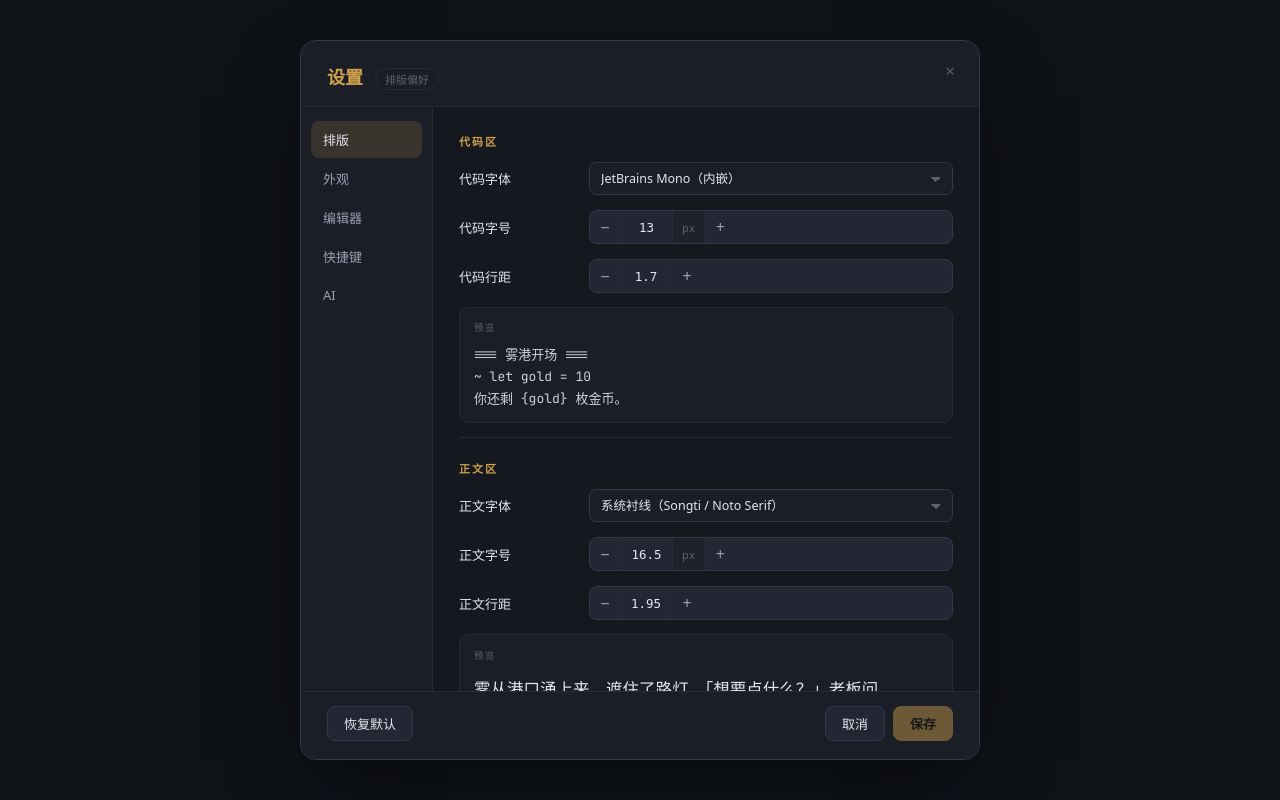
SettingsDialog › 自定义字体：选「自定义...」展开输入框
Select "自定义..." in the dropdown named "代码字体" at (771, 178), box [589,162,953,195]
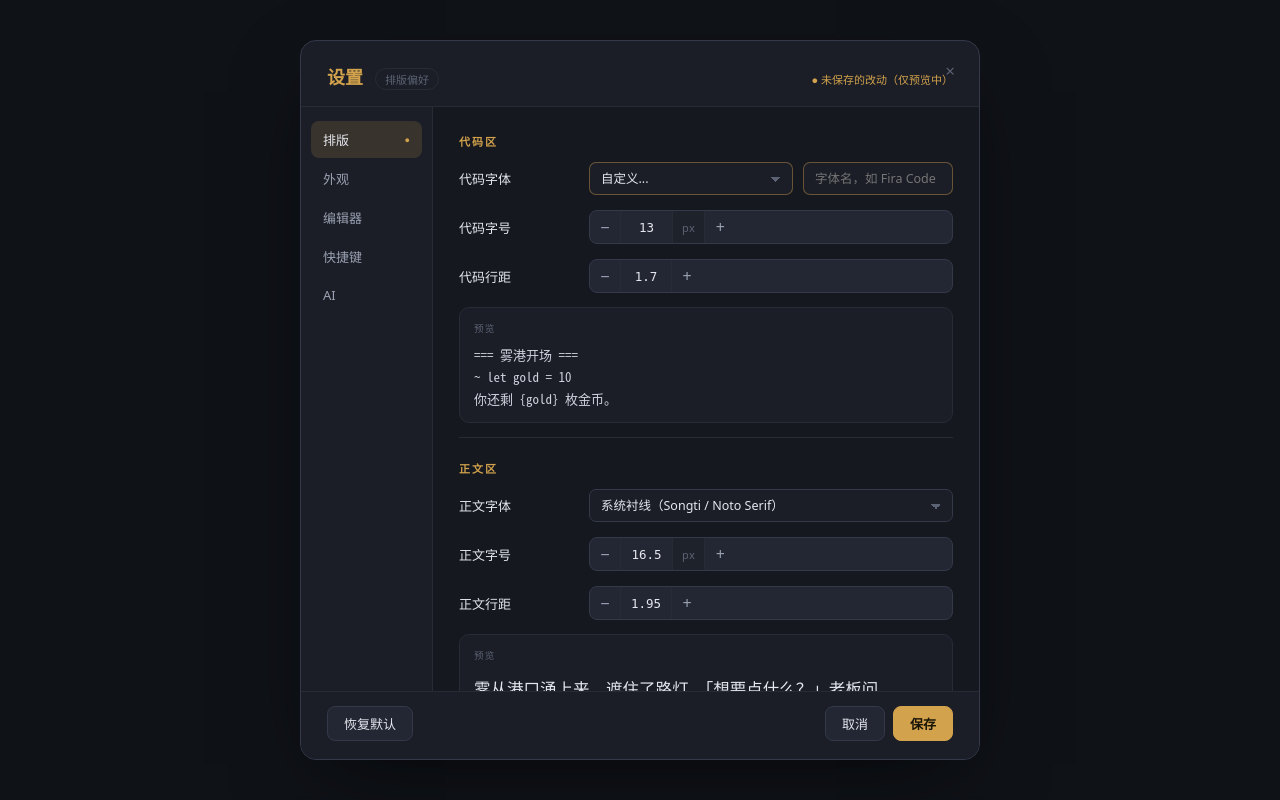
Check: the field with placeholder "字体名，如 Fira Code" is shown, box [803,162,953,195]
